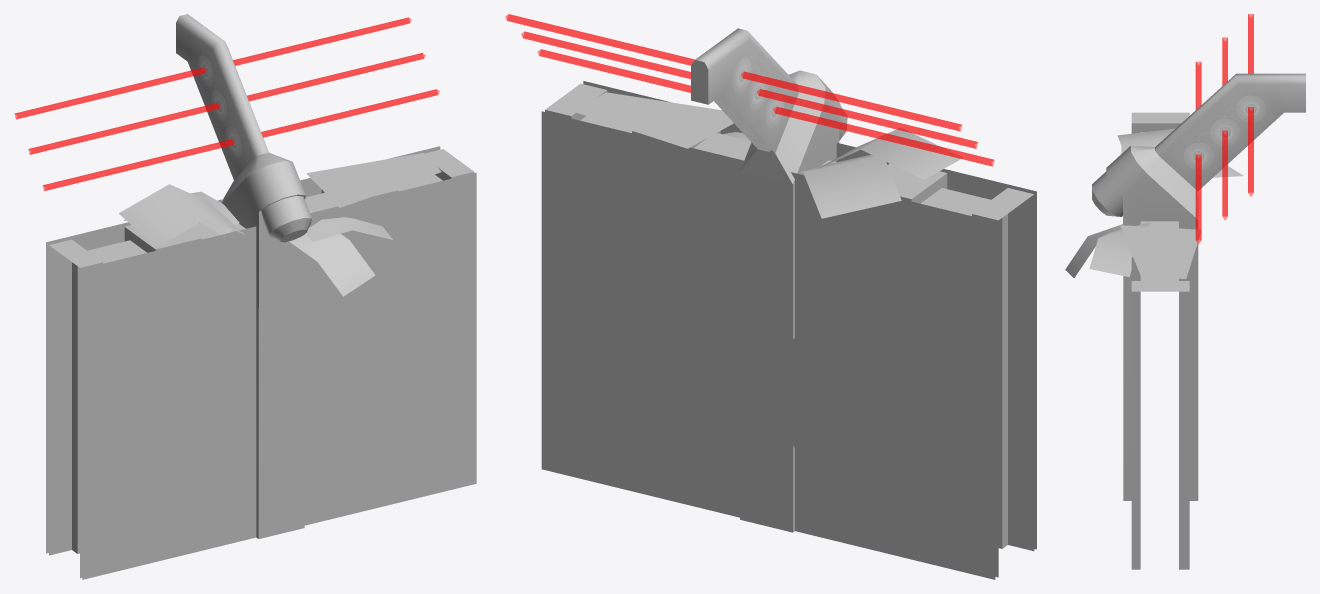
File: Exterior_Fence_Plants_1.fbx
3 renders of one model, left to right at view 1: azimuth 30°, elevation 25°; view 2: azimuth 150°, elevation 25°; view 3: azimuth 270°, elevation 25°, orthographic. The views are drawn at different scales.
Visible parts, largest first — view 1: Exterior_Fence_Plants_1; view 2: Exterior_Fence_Plants_1; view 3: Exterior_Fence_Plants_1.
Boxes of the visible parts, <box> form: Exterior_Fence_Plants_1: <box>14,14,476,579</box>; Exterior_Fence_Plants_1: <box>505,14,1036,579</box>; Exterior_Fence_Plants_1: <box>1065,14,1305,569</box>.
Bounding box in the file's own units: 4 × 4.33 × 2.28.
